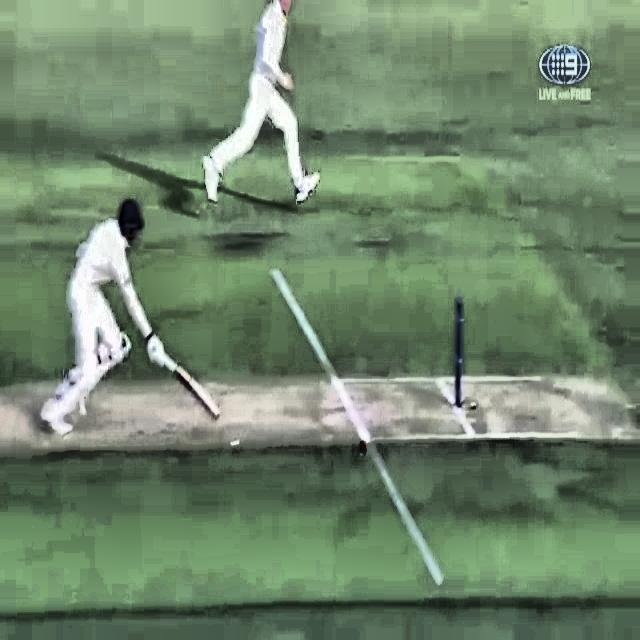Bat: (140, 335, 224, 424)
Pitch_Line: (268, 266, 446, 588)
Undis_Wicket: (448, 297, 471, 412)
